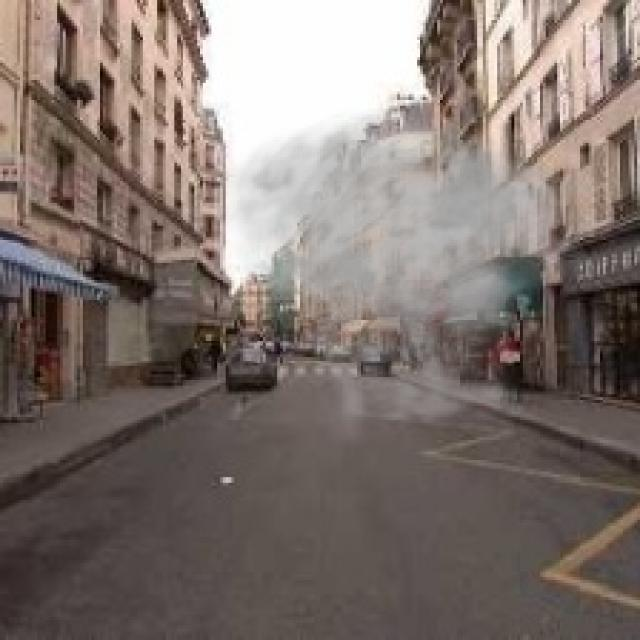Smoke: (214, 106, 597, 454)
